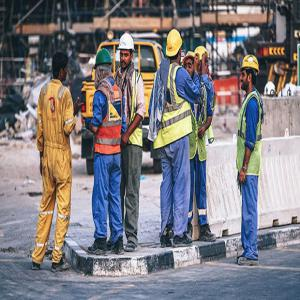none: (52, 52, 70, 83)
white: (120, 34, 135, 69)
yellow: (240, 55, 261, 92), (166, 31, 184, 64), (183, 52, 199, 79), (195, 48, 209, 73)
